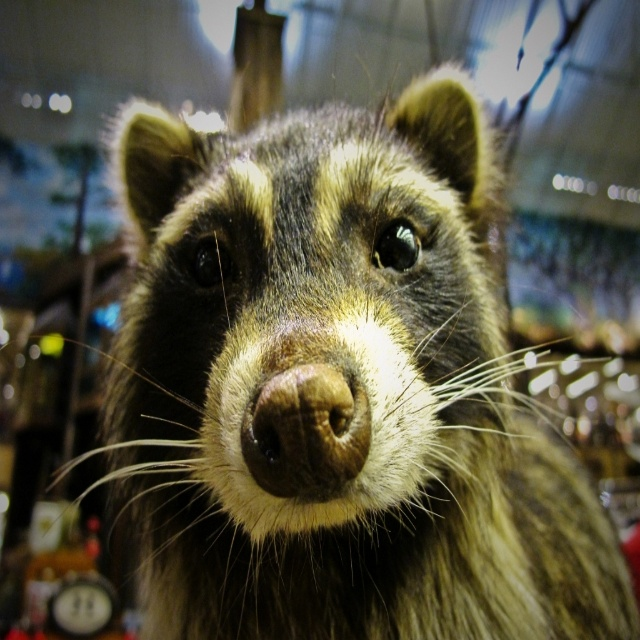Raccoon: (0, 36, 640, 640)
